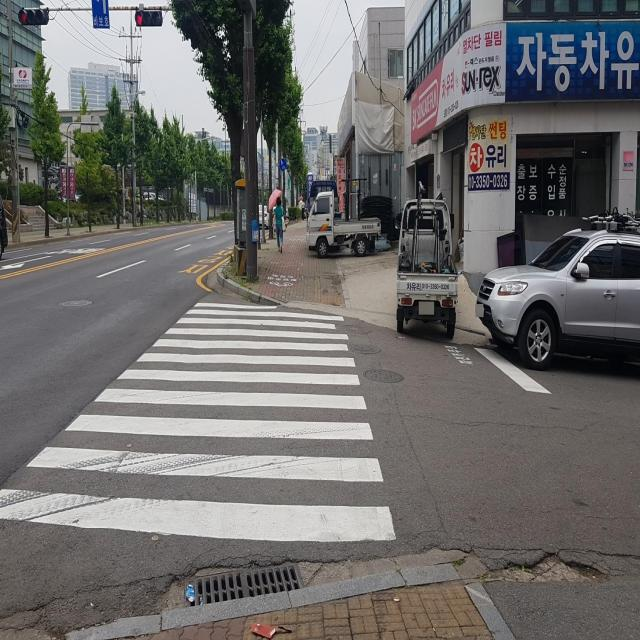횡단보도: (0, 300, 397, 544)
